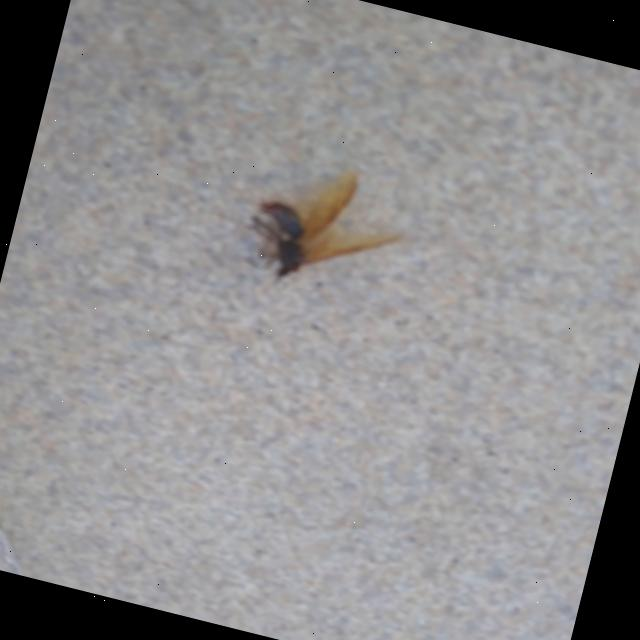Dead-Male-Alate: (234, 150, 414, 323)
